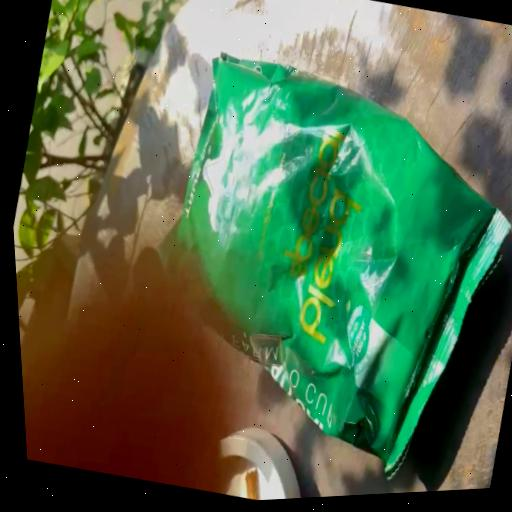cafe_xay: (177, 54, 510, 471)
